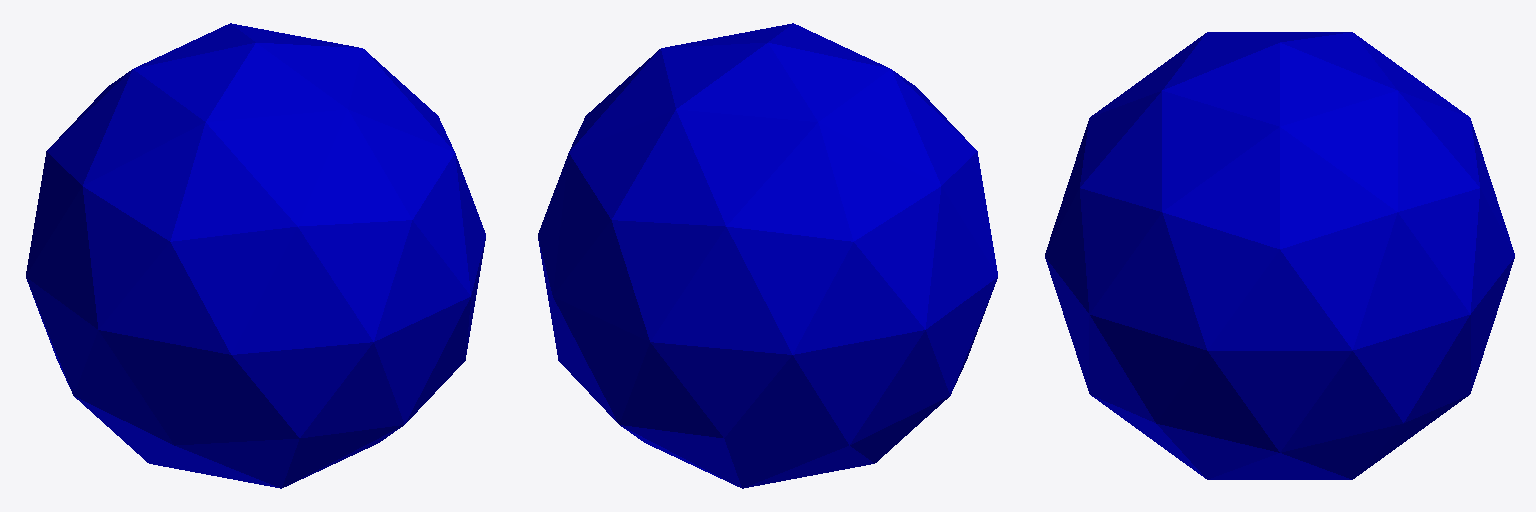
The model's file is burger.obj.
The picture shows the model from 3 angles: view 1: azimuth 30°, elevation 25°; view 2: azimuth 150°, elevation 25°; view 3: azimuth 270°, elevation 25°; orthographic projection.
Parts seen in each view (by area): view 1: Icosphere.001; view 2: Icosphere.001; view 3: Icosphere.001.
Part boxes in pixels (x1,y1,x2,y2): Icosphere.001: (26,23,485,488); Icosphere.001: (538,23,997,488); Icosphere.001: (1045,32,1514,479).
Bounding box in the file's own units: 1.9 × 2 × 2.